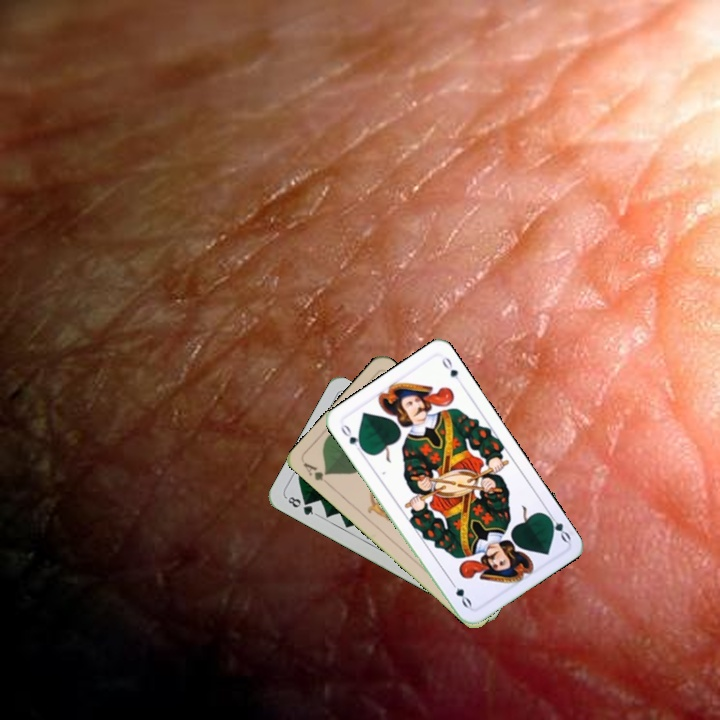G8: (282, 492, 319, 518)
GA: (299, 458, 332, 489)
GO: (542, 508, 573, 545), (337, 420, 367, 456)
